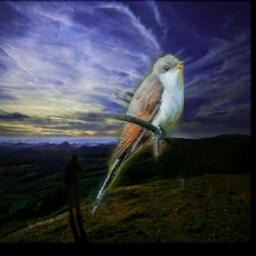Cuckoo: (89, 54, 185, 218)
